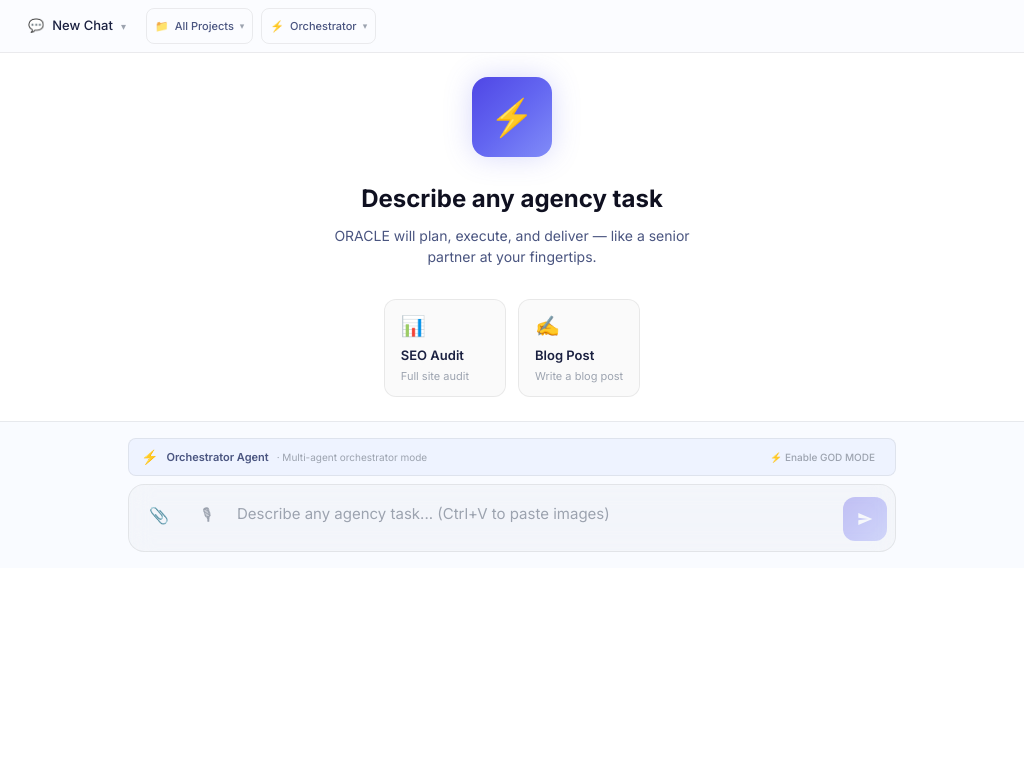
Scenario: ChatPanel › message rendering › renders user message after sending
Type "Hello" into the text box named "Chat input" at (536, 519), box [237,495,835,543]
Then press Enter
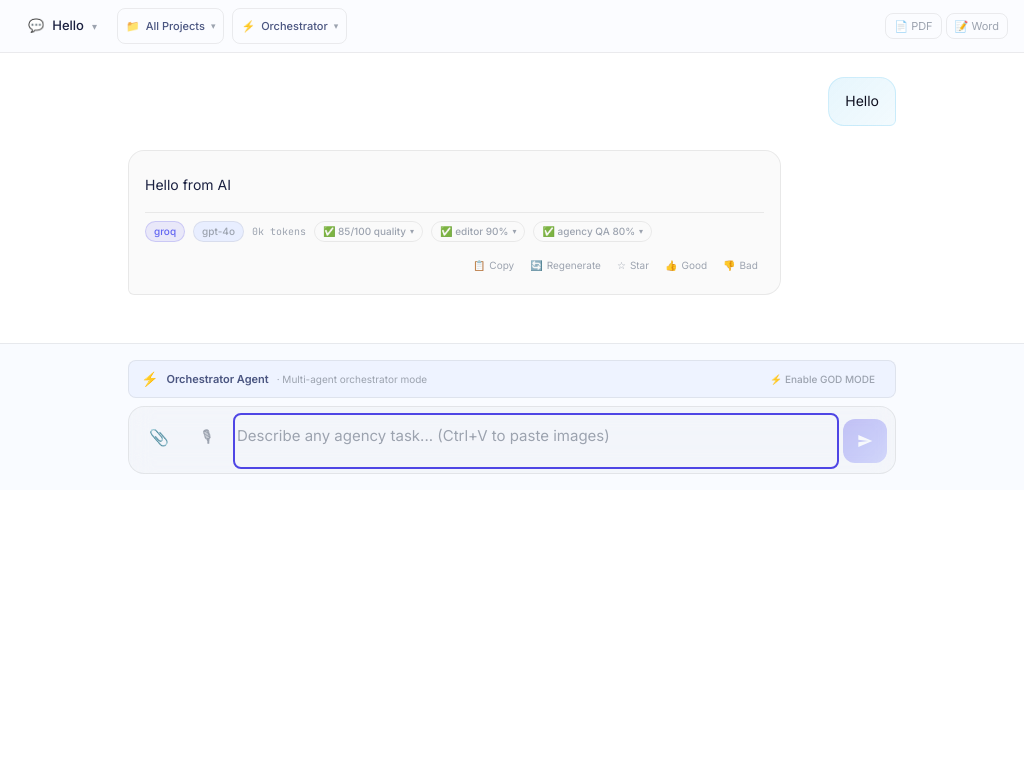
Check: the 2nd text "Hello" is shown, box [845,90,879,113]
